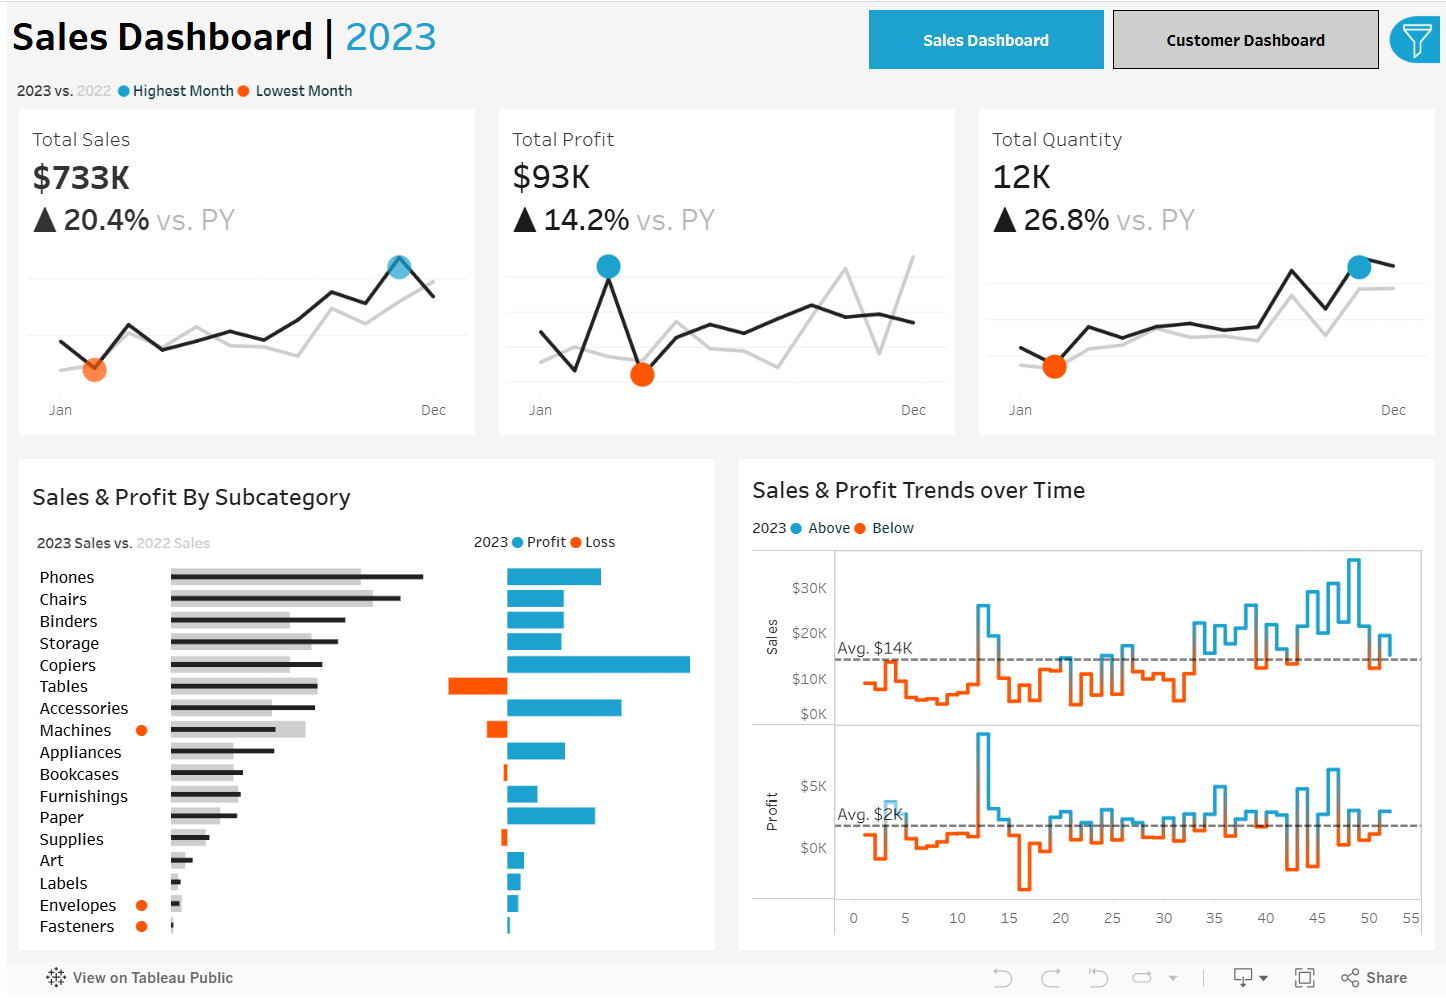

The page's visual inventory and layout, read from the dashboard file:
{"tool":"tableau","page":{"name":"Sales Dashboard","canvas":[1200,800],"ordinal":1},"visuals":[{"type":"text","box":[0,0,1200,57]},{"type":"dashboard-object","box":[714,3,204,57]},{"type":"dashboard-object","box":[918,3,229,57]},{"type":"dashboard-object","box":[1147,3,51,57]},{"type":"text","box":[970,10,208,159]},{"type":"worksheet","title":"Legend KPI","mark":"Automatic","box":[0,57,1200,32]},{"type":"worksheet","title":"KPI Sales","mark":"Line","rows":["Calculation_1294693427105796"],"cols":["Order Date"],"box":[0,89,400,282]},{"type":"worksheet","title":"KPI Profit","mark":"Line","rows":["Min/Max Quantity (copy)_0859562486218763"],"cols":["Order Date"],"box":[400,89,400,282]},{"type":"worksheet","title":"KPI Quantity","mark":"Line","rows":["Min/Max Sales (copy)_1294693451153434"],"cols":["Order Date"],"box":[800,89,400,282]},{"type":"parameter","param":"[Parameters].[Parameter 1]","box":[970,169,208,89]},{"type":"blank","box":[970,258,208,32]},{"type":"text","box":[970,290,208,39]},{"type":"filter","title":"KPI Sales","param":"[federated.0lyf21q1wr2ens1aoogcu0liwwes].[none:Category:nk]","box":[970,329,208,70]},{"type":"text","box":[17,388,566,46]},{"type":"text","box":[617,388,566,47]},{"type":"filter","title":"KPI Sales","param":"[federated.0lyf21q1wr2ens1aoogcu0liwwes].[none:Sub-Category:nk]","box":[970,399,208,70]},{"type":"worksheet","title":"Legend Subcategory","mark":"Automatic","box":[17,434,368,32]},{"type":"text","box":[385,434,198,32]},{"type":"text","box":[617,435,566,33]},{"type":"worksheet","title":"Subcategory Comparison","mark":"Bar","rows":["Sub-Category","Calculation_0859562490572812"],"cols":["CY Sales (copy)_1294693420253185","Calculation_1294693420122112","CY Quantity (copy)_0859562485424132"],"box":[17,466,566,316.9]},{"type":"worksheet","title":"Weekly Trends","mark":"Automatic","rows":["Calculation_1294693420122112","CY Quantity (copy)_0859562485424132"],"cols":["Order Date"],"box":[617,468,566,315]},{"type":"blank","box":[970,469,208,36]},{"type":"text","box":[970,505,208,39]},{"type":"filter","title":"KPI Sales","param":"[federated.0lyf21q1wr2ens1aoogcu0liwwes].[none:Region:nk]","box":[970,544,208,70]},{"type":"filter","title":"KPI Sales","param":"[federated.0lyf21q1wr2ens1aoogcu0liwwes].[none:State:nk]","box":[970,614,208,70]},{"type":"filter","title":"KPI Sales","param":"[federated.0lyf21q1wr2ens1aoogcu0liwwes].[none:City:nk]","box":[970,684,208,70]}]}

Visuals, with their boxes on the page's 1200x800 design canvas (x1, y1, x2, y2). These are canvas units, not pixel positions in the 1446x1004 screenshot, which may show the page scaled, cropped or inside an application window:
text: (x1=0, y1=0, x2=1200, y2=57)
dashboard-object: (x1=714, y1=3, x2=918, y2=60)
dashboard-object: (x1=918, y1=3, x2=1147, y2=60)
dashboard-object: (x1=1147, y1=3, x2=1198, y2=60)
text: (x1=970, y1=10, x2=1178, y2=169)
"Legend KPI" worksheet: (x1=0, y1=57, x2=1200, y2=89)
"KPI Sales" worksheet (Line marks): (x1=0, y1=89, x2=400, y2=371)
"KPI Profit" worksheet (Line marks): (x1=400, y1=89, x2=800, y2=371)
"KPI Quantity" worksheet (Line marks): (x1=800, y1=89, x2=1200, y2=371)
parameter: (x1=970, y1=169, x2=1178, y2=258)
blank: (x1=970, y1=258, x2=1178, y2=290)
text: (x1=970, y1=290, x2=1178, y2=329)
"KPI Sales" filter: (x1=970, y1=329, x2=1178, y2=399)
text: (x1=17, y1=388, x2=583, y2=434)
text: (x1=617, y1=388, x2=1183, y2=435)
"KPI Sales" filter: (x1=970, y1=399, x2=1178, y2=469)
"Legend Subcategory" worksheet: (x1=17, y1=434, x2=385, y2=466)
text: (x1=385, y1=434, x2=583, y2=466)
text: (x1=617, y1=435, x2=1183, y2=468)
"Subcategory Comparison" worksheet (Bar marks): (x1=17, y1=466, x2=583, y2=783)
"Weekly Trends" worksheet: (x1=617, y1=468, x2=1183, y2=783)
blank: (x1=970, y1=469, x2=1178, y2=505)
text: (x1=970, y1=505, x2=1178, y2=544)
"KPI Sales" filter: (x1=970, y1=544, x2=1178, y2=614)
"KPI Sales" filter: (x1=970, y1=614, x2=1178, y2=684)
"KPI Sales" filter: (x1=970, y1=684, x2=1178, y2=754)
